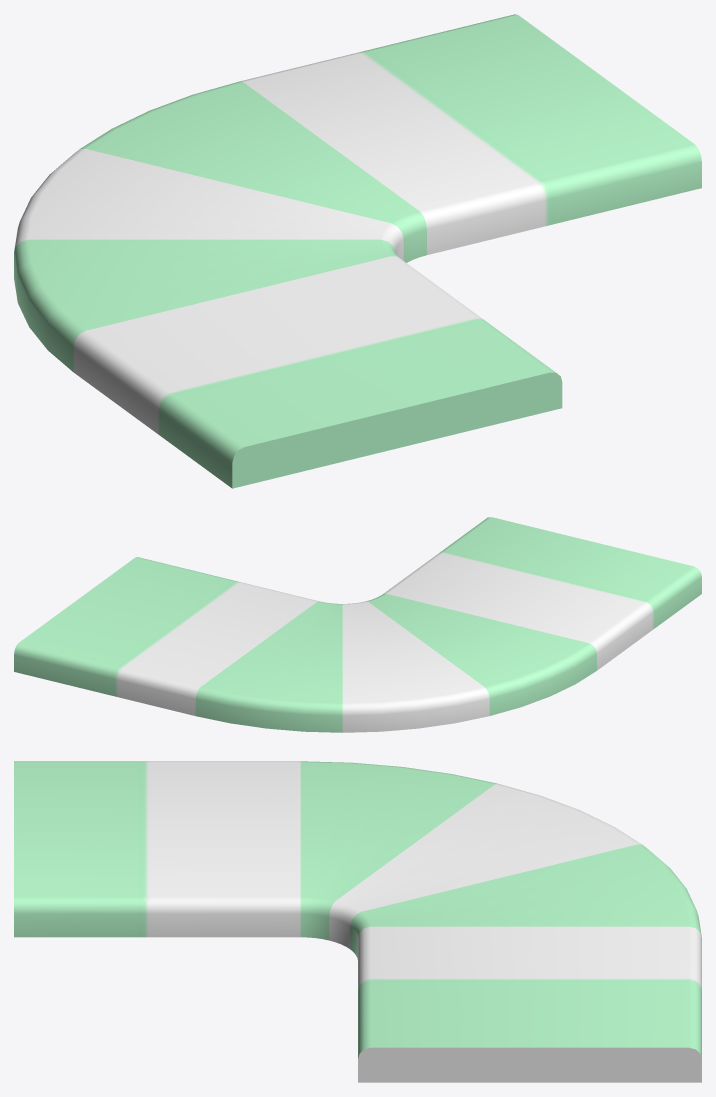
Rendered from RoadTurn_green.fbx.
The picture shows the model from 3 angles, top to bottom: view 1: azimuth 30°, elevation 25°; view 2: azimuth 150°, elevation 25°; view 3: azimuth 270°, elevation 25°; orthographic projection. The views are drawn at different scales.
Visible parts, largest first — view 1: RoadTurn_green; view 2: RoadTurn_green; view 3: RoadTurn_green.
Part boxes in pixels (bbox=[...]): RoadTurn_green: bbox=[14, 14, 701, 488]; RoadTurn_green: bbox=[14, 517, 701, 732]; RoadTurn_green: bbox=[14, 761, 701, 1082].
Size of the model in its own units: 600 by 33.61 by 600.
1 material, 1 textured.
